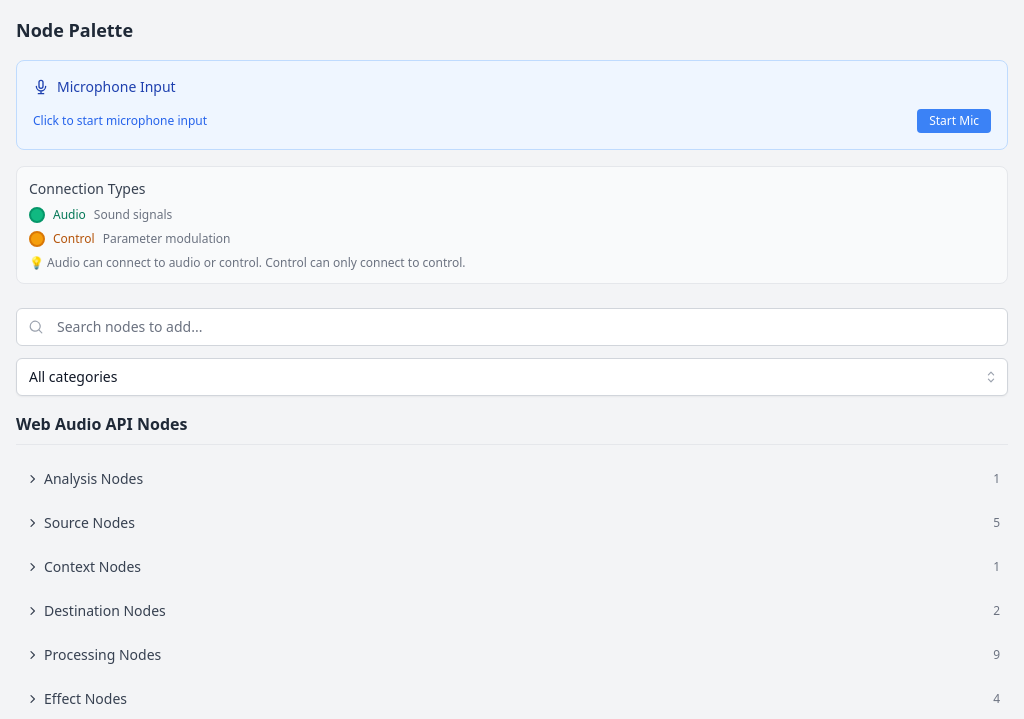
Scenario: NodePalette - Filtering System › Text Search Filter › should be case insensitive
// Type uppercase
Step 1. Type "GAIN" into the search field with placeholder "Search nodes to add..." → (512, 327), box 16,308 -> 1008,346
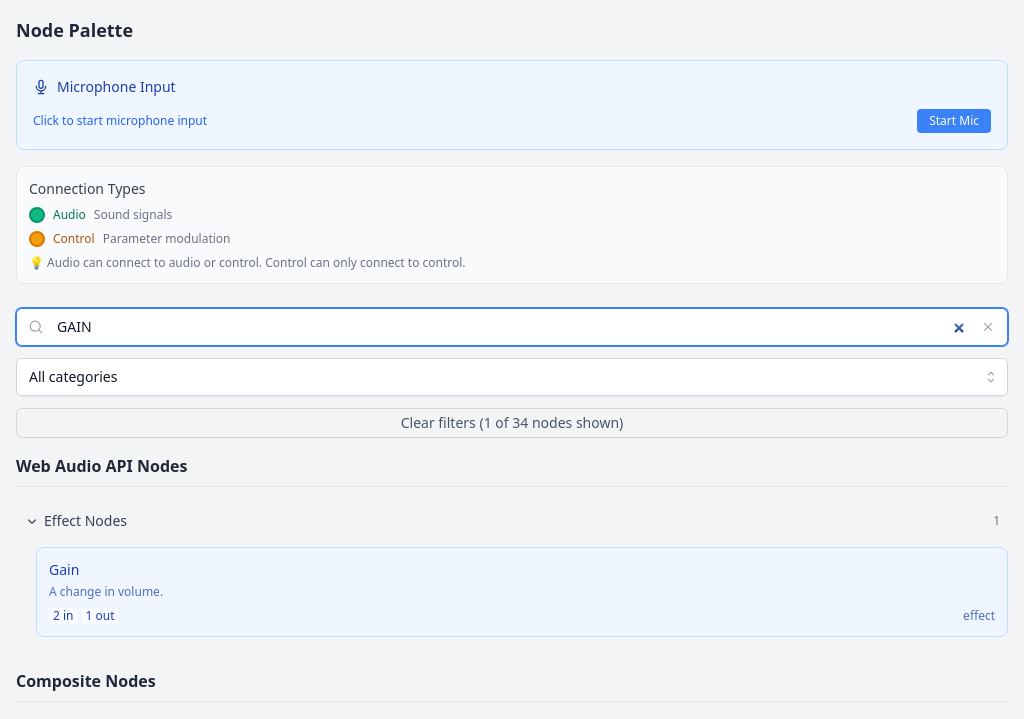
Expected: the text "Gain" is shown, 49,560 -> 79,579
